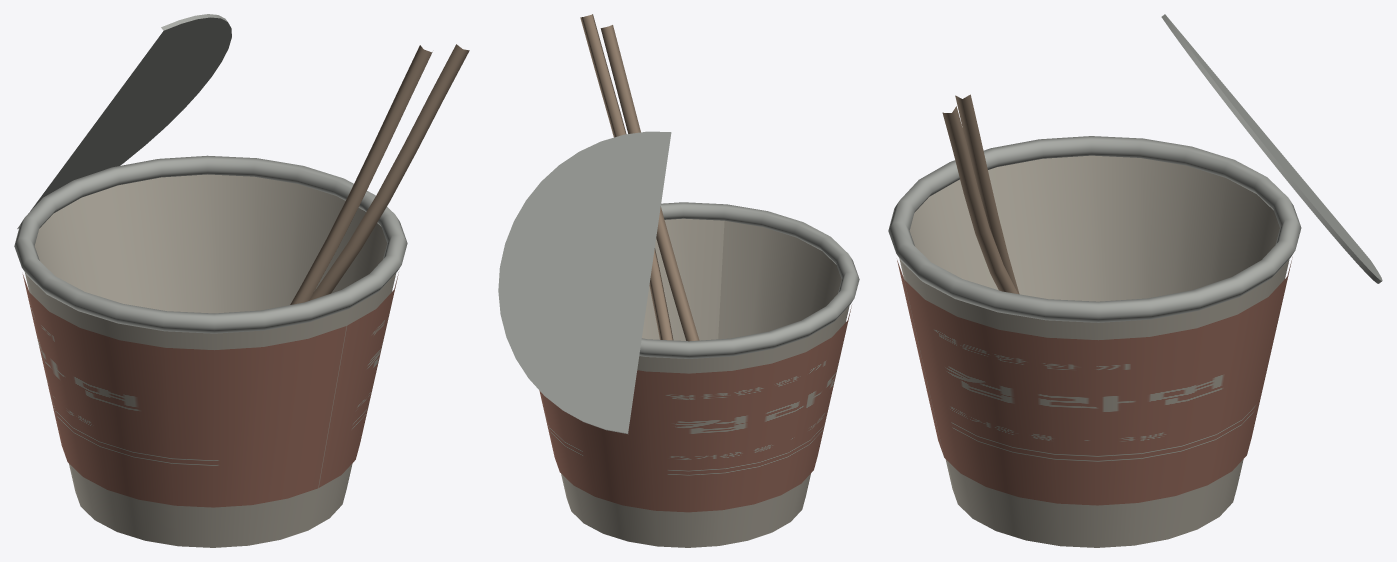
File: room-cup-noodle-trash.glb
3 views of the same model, side by side, from view 1: azimuth 30°, elevation 25°; view 2: azimuth 150°, elevation 25°; view 3: azimuth 270°, elevation 25° (orthographic). The views are drawn at different scales.
Visible parts, largest first — view 1: room-cup-noodle-trash; view 2: room-cup-noodle-trash; view 3: room-cup-noodle-trash.
Part boxes in pixels (box(x1,y1,x2,y2)): room-cup-noodle-trash: box(14, 14, 469, 547); room-cup-noodle-trash: box(498, 14, 859, 547); room-cup-noodle-trash: box(888, 14, 1382, 547).
Size of the model in its own units: 0.3663 by 0.4431 by 0.4163.
6 materials, 1 textured.
